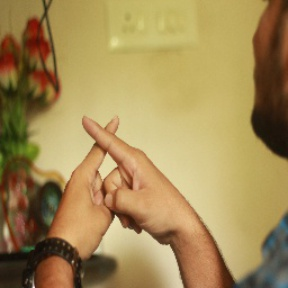X: (59, 101, 157, 207)
